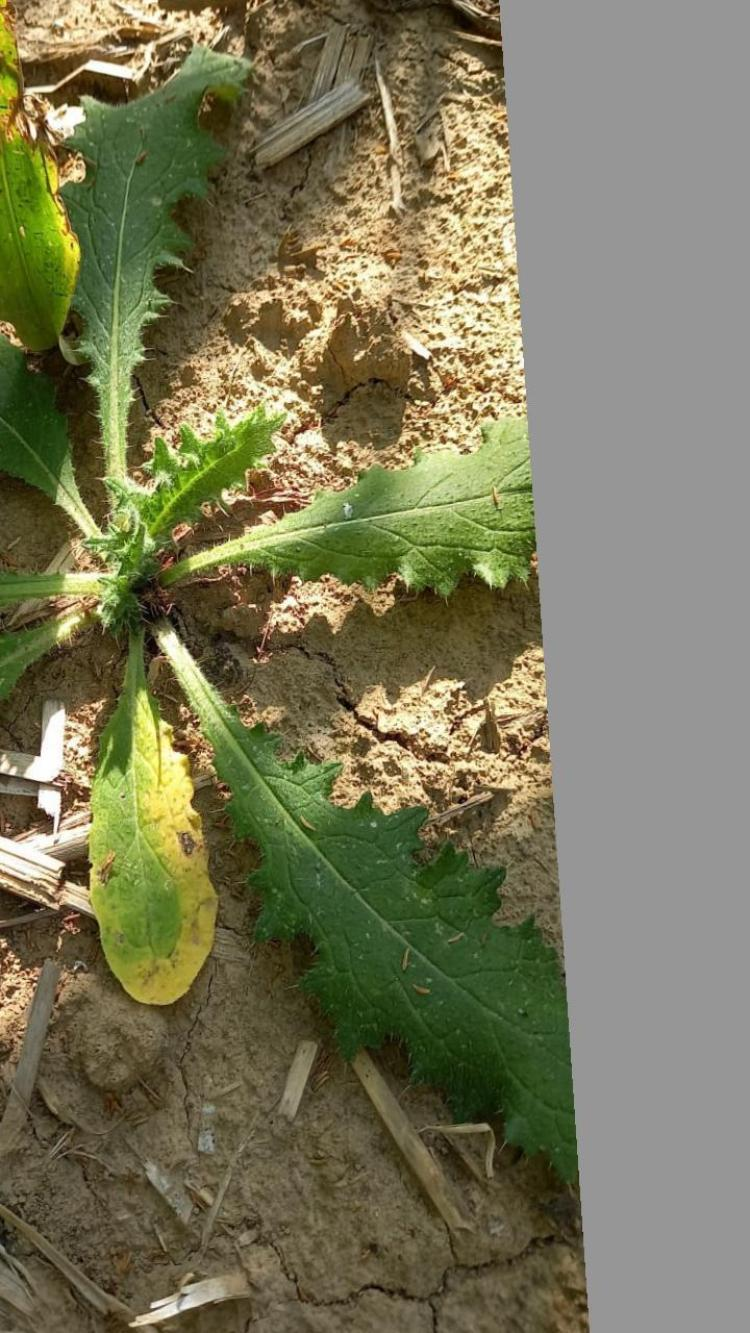osot: (0, 36, 581, 1218)
